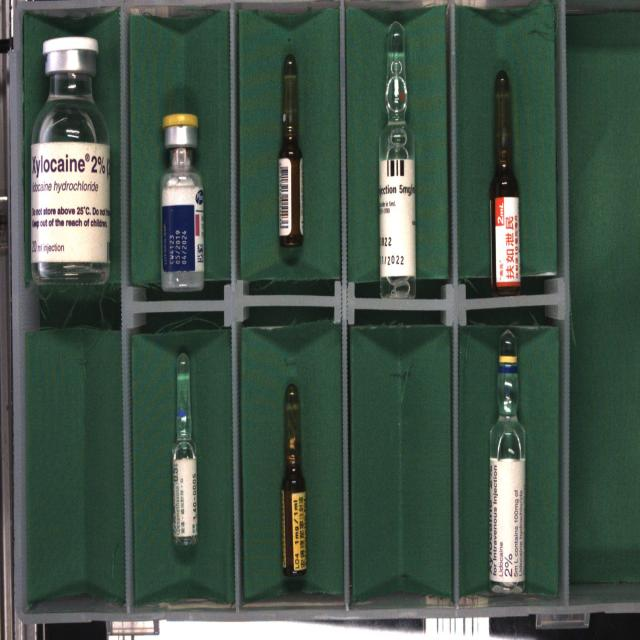Vials: (31, 37, 110, 285), (161, 113, 204, 291)
